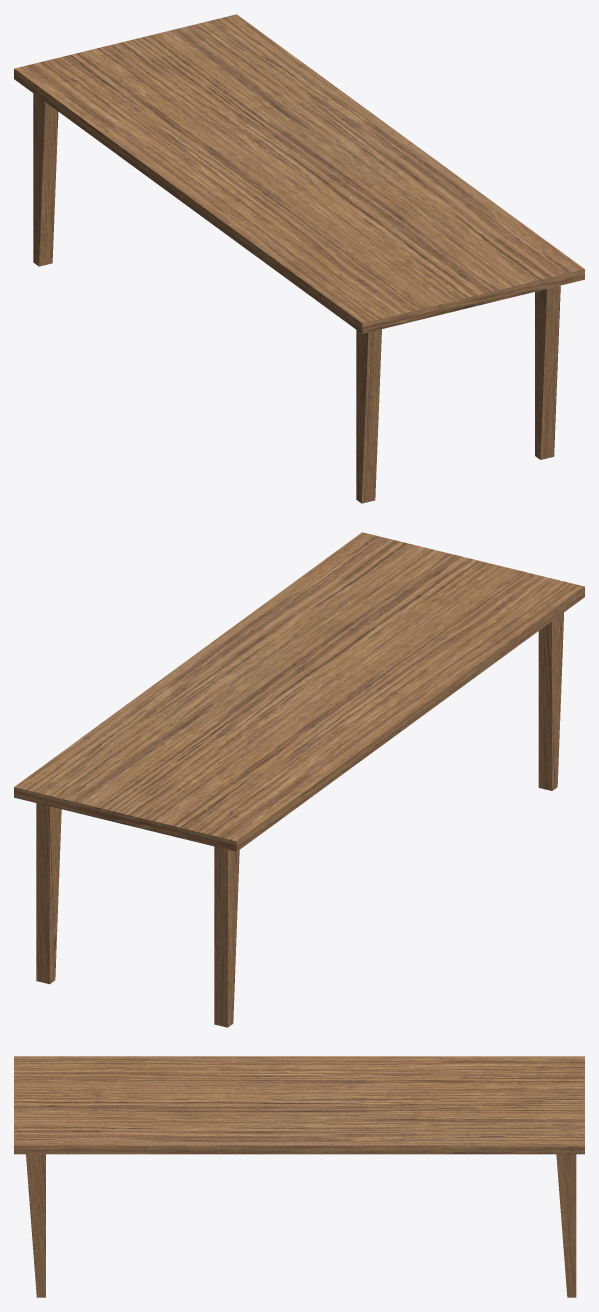
Rendered from Coffee Table Lawyer.FBX.
3 renders of one model, top to bottom at view 1: azimuth 30°, elevation 25°; view 2: azimuth 150°, elevation 25°; view 3: azimuth 270°, elevation 25°, orthographic. The views are drawn at different scales.
Visible parts, largest first — view 1: Coffee_Table01; view 2: Coffee_Table01; view 3: Coffee_Table01.
Part boxes in pixels (bbox=[...]): Coffee_Table01: bbox=[14, 14, 584, 503]; Coffee_Table01: bbox=[14, 532, 584, 1027]; Coffee_Table01: bbox=[14, 1056, 584, 1297].
Size of the model in its own units: 23.04 by 19.13 by 62.39.
Materials: 1 (1 with a texture image).
